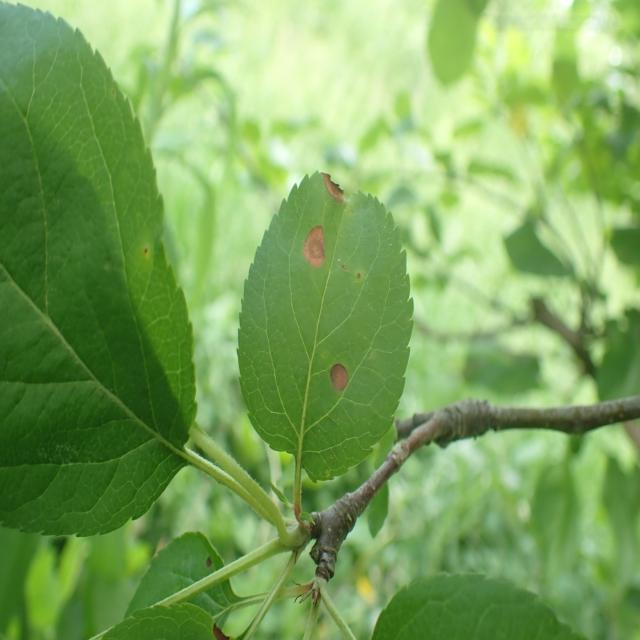Black Rot: (318, 147, 356, 216), (328, 252, 373, 294), (325, 343, 351, 412), (300, 218, 326, 280), (204, 548, 220, 574)
